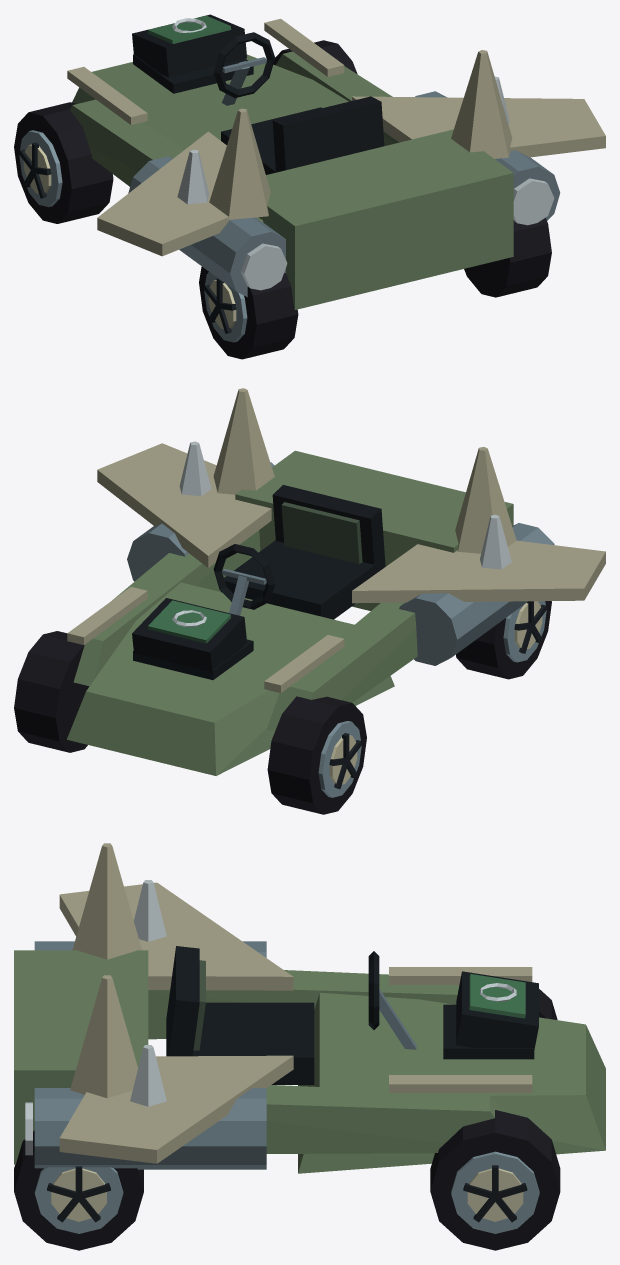
File: kart.glb
3 renders of one model, top to bottom at view 1: azimuth 30°, elevation 25°; view 2: azimuth 150°, elevation 25°; view 3: azimuth 270°, elevation 25°, orthographic. The views are drawn at different scales.
Visible parts, largest first — view 1: identity-lab-pod-lab-pod-segmented-shell, identity-lab-pod-motif-wings, identity-lab-pod-motif-crystals, identity-lab-pod-driver-cockpit, wheel-front-left, wheel-rear-left, identity-lab-pod-motif-scanner, wheel-rear-right, wheel-front-right; view 2: identity-lab-pod-lab-pod-segmented-shell, identity-lab-pod-motif-wings, identity-lab-pod-driver-cockpit, identity-lab-pod-motif-crystals, wheel-front-left, wheel-front-right, identity-lab-pod-motif-scanner, wheel-rear-left; view 3: identity-lab-pod-lab-pod-segmented-shell, identity-lab-pod-motif-wings, wheel-front-right, identity-lab-pod-motif-crystals, identity-lab-pod-driver-cockpit, wheel-rear-right, identity-lab-pod-motif-scanner.
Boxes of the visible parts, x1=… form: identity-lab-pod-lab-pod-segmented-shell: x1=67, y1=18, x2=560, y2=309; identity-lab-pod-motif-wings: x1=97, y1=96, x2=605, y2=256; identity-lab-pod-motif-crystals: x1=177, y1=50, x2=512, y2=219; identity-lab-pod-driver-cockpit: x1=213, y1=32, x2=384, y2=174; wheel-front-left: x1=14, y1=102, x2=113, y2=223; wheel-rear-left: x1=199, y1=266, x2=298, y2=359; identity-lab-pod-motif-scanner: x1=132, y1=14, x2=246, y2=77; wheel-rear-right: x1=464, y1=218, x2=551, y2=297; wheel-front-right: x1=273, y1=40, x2=357, y2=73; identity-lab-pod-lab-pod-segmented-shell: x1=67, y1=450, x2=554, y2=775; identity-lab-pod-motif-wings: x1=97, y1=443, x2=605, y2=603; identity-lab-pod-driver-cockpit: x1=213, y1=485, x2=385, y2=619; identity-lab-pod-motif-crystals: x1=179, y1=388, x2=516, y2=569; wheel-front-left: x1=267, y1=696, x2=366, y2=814; wheel-front-right: x1=14, y1=631, x2=89, y2=752; identity-lab-pod-motif-scanner: x1=132, y1=598, x2=246, y2=672; wheel-rear-left: x1=456, y1=601, x2=551, y2=679; identity-lab-pod-lab-pod-segmented-shell: x1=14, y1=941, x2=605, y2=1173; identity-lab-pod-motif-wings: x1=59, y1=882, x2=293, y2=1163; wheel-front-right: x1=430, y1=1110, x2=560, y2=1250; identity-lab-pod-motif-crystals: x1=70, y1=843, x2=166, y2=1106; identity-lab-pod-driver-cockpit: x1=166, y1=946, x2=416, y2=1084; wheel-rear-right: x1=14, y1=1130, x2=143, y2=1250; identity-lab-pod-motif-scanner: x1=456, y1=971, x2=538, y2=1049.
Size of the model in its own units: 2.92 by 1.32 by 2.73.
